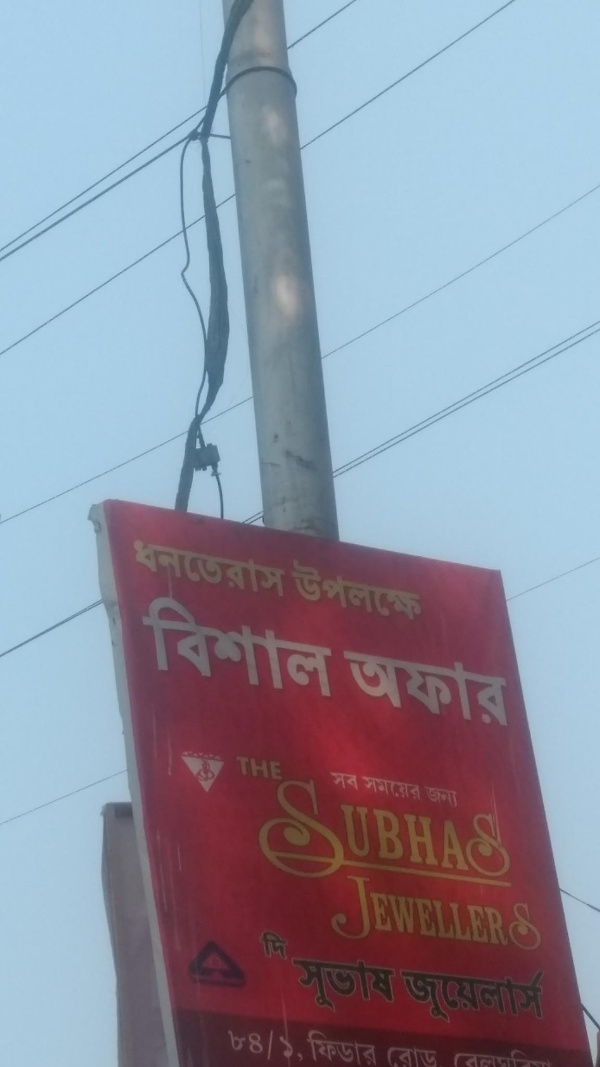text: (257, 773, 272, 900), (273, 773, 288, 900), (289, 773, 304, 900), (305, 773, 320, 900), (321, 773, 336, 900), (337, 773, 352, 900), (353, 773, 368, 900), (369, 773, 384, 900), (385, 773, 400, 900), (401, 773, 416, 900), (417, 773, 432, 900), (433, 773, 448, 900), (449, 773, 464, 900), (465, 773, 480, 900), (481, 773, 496, 900), (497, 773, 512, 900), (145, 590, 160, 703), (161, 590, 176, 703), (177, 590, 192, 703), (193, 590, 208, 703), (209, 590, 224, 703), (225, 590, 240, 703), (241, 590, 256, 703), (257, 590, 272, 703), (273, 590, 288, 703), (289, 590, 304, 703), (305, 590, 320, 703), (321, 590, 336, 703), (353, 640, 368, 734), (369, 640, 384, 734), (385, 640, 400, 734), (401, 640, 416, 734), (417, 640, 432, 734), (433, 640, 448, 734), (449, 640, 464, 734), (465, 640, 480, 734), (481, 640, 496, 734), (497, 640, 512, 734), (338, 640, 352, 734), (337, 874, 352, 958), (353, 874, 368, 958), (369, 874, 384, 958), (385, 874, 400, 958), (401, 874, 416, 958), (417, 874, 432, 958), (433, 874, 448, 958), (449, 874, 464, 958), (465, 874, 480, 958), (481, 874, 496, 958), (497, 874, 512, 958), (513, 874, 528, 958), (529, 874, 544, 958), (401, 957, 416, 1035), (417, 957, 432, 1035), (433, 957, 448, 1035), (449, 957, 464, 1035), (465, 957, 480, 1035), (481, 957, 496, 1035), (497, 957, 512, 1035), (513, 957, 528, 1035), (529, 957, 544, 1035), (247, 773, 256, 900), (289, 951, 304, 1020), (305, 951, 320, 1020), (321, 951, 336, 1020), (337, 951, 352, 1020), (353, 951, 368, 1020), (369, 951, 384, 1020), (385, 951, 400, 1020), (513, 773, 521, 900), (289, 557, 304, 624), (305, 557, 320, 624), (321, 557, 336, 624), (337, 557, 352, 624), (353, 557, 368, 624), (369, 557, 384, 624), (385, 557, 400, 624), (401, 557, 416, 624), (136, 590, 144, 703), (145, 539, 160, 599), (161, 539, 176, 599), (177, 539, 192, 599), (193, 539, 208, 599), (209, 539, 224, 599), (225, 539, 240, 599), (241, 539, 256, 599), (257, 539, 272, 599), (545, 957, 556, 1035), (273, 539, 287, 599), (132, 539, 144, 599), (328, 874, 336, 958), (305, 1028, 320, 1066), (321, 1028, 336, 1066), (337, 1028, 352, 1066), (353, 1028, 368, 1066), (225, 1026, 240, 1063), (241, 1026, 256, 1063), (257, 1026, 272, 1063), (273, 1026, 288, 1063), (289, 1026, 304, 1063), (369, 1028, 383, 1066), (257, 929, 272, 962), (273, 929, 288, 962), (513, 640, 518, 734), (417, 557, 424, 624), (385, 1037, 400, 1066), (401, 1037, 416, 1066), (417, 1037, 432, 1066), (433, 1037, 448, 1066), (449, 1037, 464, 1066), (465, 1037, 480, 1066), (481, 1037, 496, 1066), (497, 1037, 512, 1066), (513, 1037, 528, 1066), (529, 1037, 544, 1066), (545, 1037, 560, 1066), (369, 775, 384, 803), (385, 775, 400, 803), (401, 775, 416, 803), (433, 785, 448, 812), (241, 755, 256, 781), (257, 755, 272, 781), (401, 951, 406, 1020), (545, 874, 549, 958), (337, 771, 352, 793), (449, 785, 461, 812), (273, 755, 283, 781), (337, 590, 339, 703), (424, 785, 432, 812), (193, 749, 208, 763), (209, 749, 224, 763), (289, 929, 295, 962), (361, 775, 368, 803), (417, 775, 424, 803), (353, 771, 361, 793), (398, 957, 400, 1035), (330, 771, 336, 793), (183, 749, 192, 763), (561, 1037, 565, 1066), (301, 1028, 304, 1066), (305, 1026, 308, 1063), (236, 755, 240, 781), (225, 749, 226, 763)
